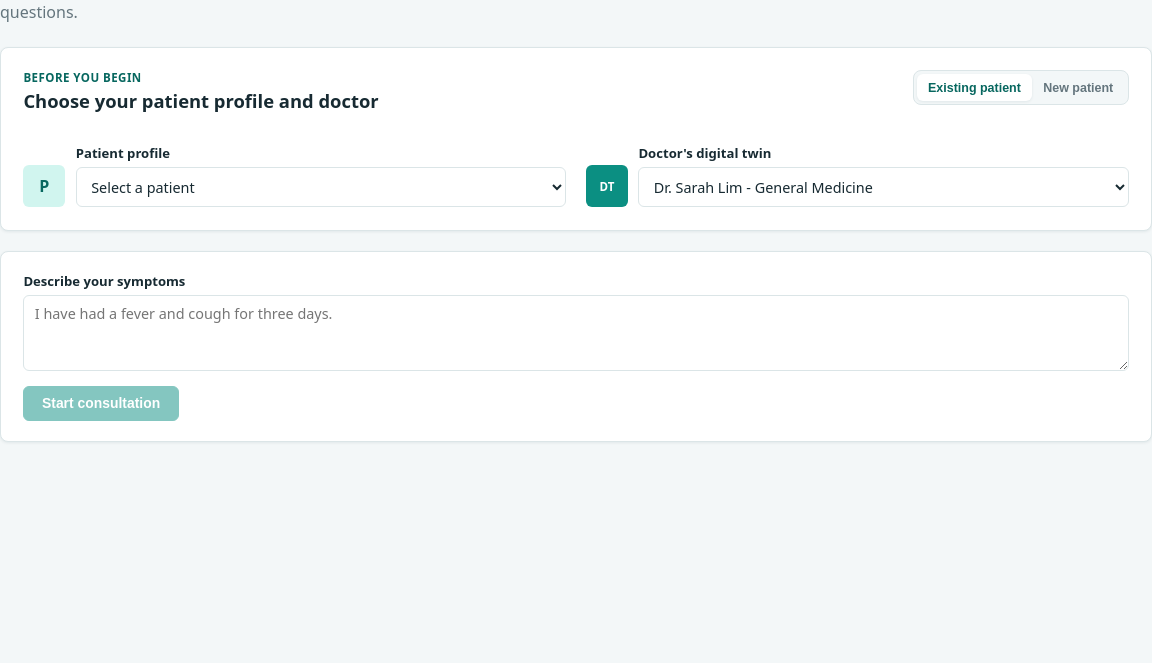
IntakePage › shows the patient message and twin placeholder while awaiting the LLM
Select "Tan Wei Ming (45, male)" in the dropdown labelled "Patient profile" at (321, 187), box [76, 167, 566, 207]
(page scrolled)
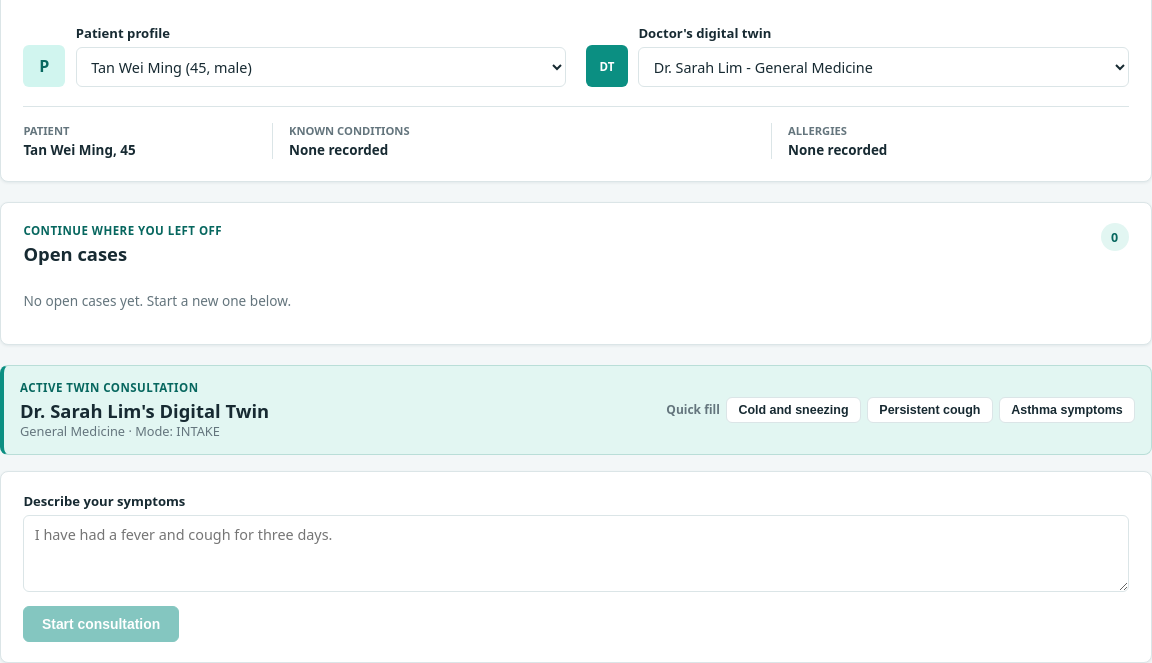
expect the dropdown labelled "Doctor's digital twin" shows "Dr. Sarah Lim - General Medicine": met, box [638, 47, 1129, 87]
Type "I have had a cough for three days." into the text box labelled "Describe your symptoms" at (576, 553), box [23, 515, 1129, 592]
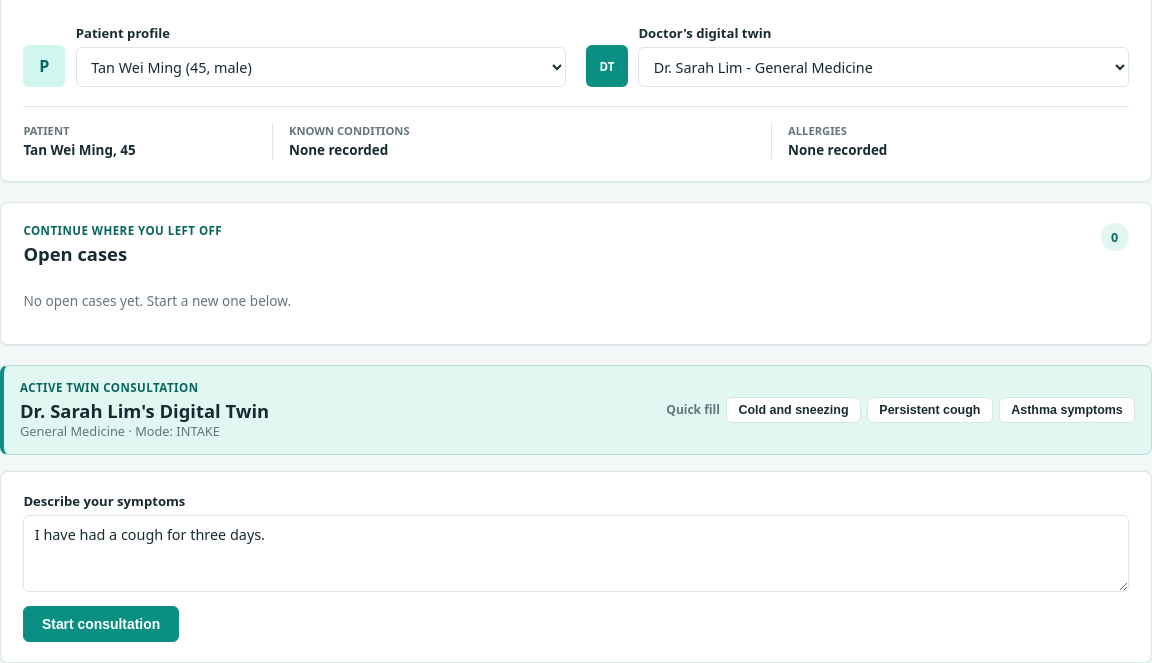
Click the button "Start consultation" at (101, 624), box [23, 606, 179, 642]
(page scrolled)
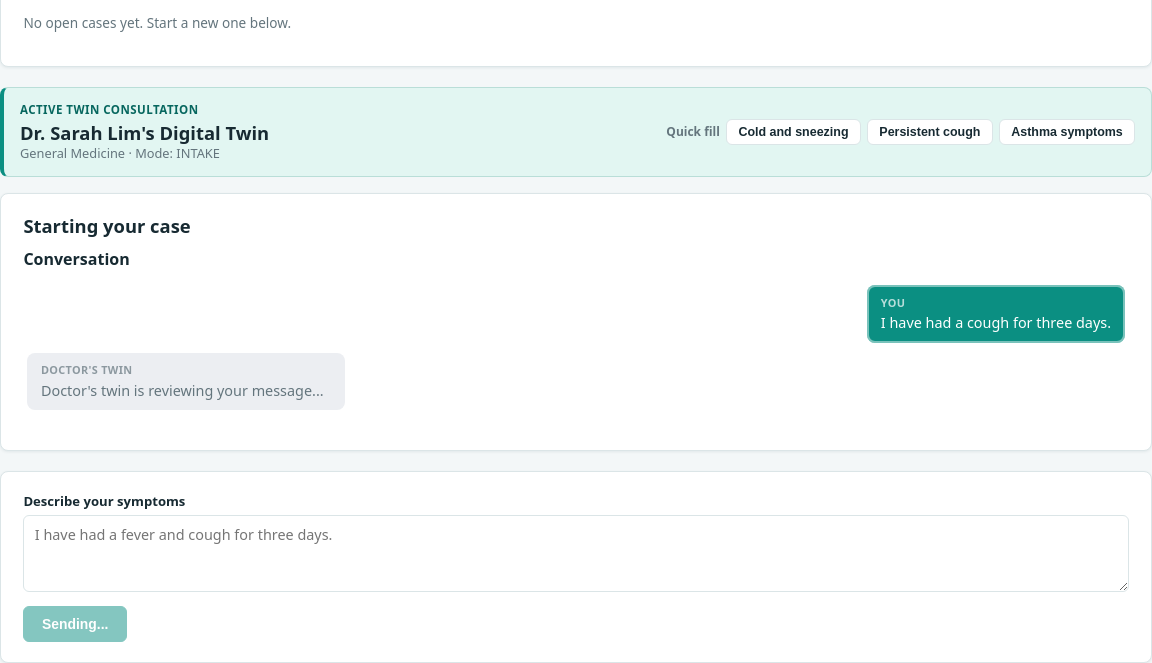
expect the text "I have had a cough for three days." is shown: met, box [881, 313, 1111, 332]
expect the message shows "Doctor's twin is reviewing your message": met, box [41, 381, 312, 400]
expect the text box labelled "Describe your symptoms" is empty: met, box [23, 515, 1129, 592]
